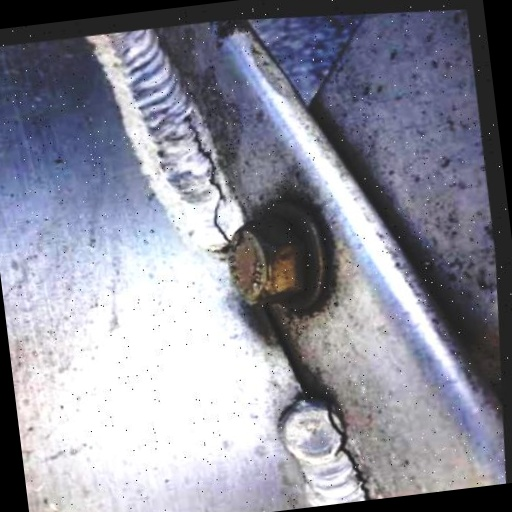crack: (159, 90, 252, 257), (311, 376, 401, 505)
